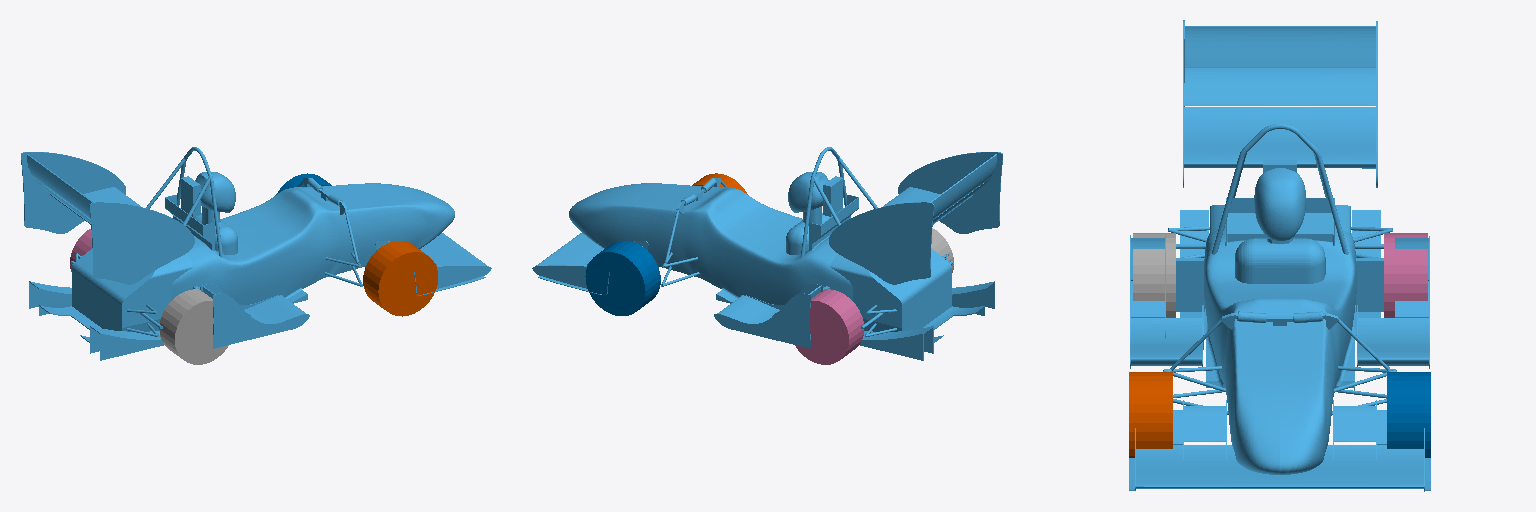
robot.urdf — prius:
<?xml version="1.0"?>
<robot xmlns:xacro="http://ros.org/wiki/xacro" name="prius">


  <!--- Surface properties must come first? -->
  <gazebo reference="front_left_wheel">
    <mu1>2.0</mu1>
    <mu2>2.0</mu2>
    <minDepth>0.005</minDepth>
    <kp>1e8</kp>
  </gazebo>
  <gazebo reference="front_right_wheel">
    <mu1>2.0</mu1>
    <mu2>2.0</mu2>
    <minDepth>0.005</minDepth>
    <kp>1e8</kp>
  </gazebo>
  <gazebo reference="rear_left_wheel">
    <mu1>2.0</mu1>
    <mu2>2.0</mu2>
    <minDepth>0.005</minDepth>
    <kp>1e8</kp>
  </gazebo>
  <gazebo reference="rear_right_wheel">
    <mu1>2.0</mu1>
    <mu2>2.0</mu2>
    <minDepth>0.005</minDepth>
    <kp>1e8</kp>
  </gazebo>

  <link name="base_link">
    <inertial>
      <mass value="1"/>
      <inertia ixx="0.001" ixy="0.0" ixz="0.0" iyy="0.001" iyz="0.0" izz="0.001"/>
    </inertial>
  </link>
  <joint name="base_link_connection" type="fixed">
    <parent link="base_link"/>
    <child link="chassis"/>
    <origin xyz="1.45 0 0" rpy="0 0 1.57"/>
    <axis xyz="1 0 0"/>
  </joint>

  <link name="chassis">
    <visual>
      <origin xyz="0.0 -0.5 0.248" rpy="1.5708 0 1.5708"/>
      <geometry>
        <mesh filename="package://ground_car/meshes/E02.obj" scale="0.001 0.001 0.001"/>
      </geometry>
    </visual>

    <collision name="chassis">
      <origin xyz="0.0 0.0 0.248" rpy="0 0 0"/>
      <geometry>
        <box size="0.9 2 0.496"/>
      </geometry>
    </collision>


    <inertial>
      <mass value="250.0"/>
      <origin xyz="0 0 0.48" rpy="0 0 1.5708"/>
      <inertia ixx="2581.13354740" ixy="0.0" ixz="0.0" iyy="591.30846112" iyz="0.0" izz="2681.95008628"/>
    </inertial>
  </link>

  <link name="fl_axle">
    <inertial>
      <mass value="1"/>
      <origin xyz="0 0 0"/>
      <inertia ixx="0.004" ixy="0.0" ixz="0.0" iyy="0.004" iyz="0.0" izz="0.004"/>
    </inertial>
  </link>
  <link name="fr_axle">
    <inertial>
      <mass value="1"/>
      <origin xyz="0 0 0"/>
      <inertia ixx="0.004" ixy="0.0" ixz="0.0" iyy="0.004" iyz="0.0" izz="0.004"/>
    </inertial>
  </link>
  <link name="front_left_wheel">
    <inertial>
      <mass value="11"/>
      <origin xyz="0 0 0"/>
      <inertia ixx="0.58631238" ixy="0.0" ixz="0.0" iyy="0.33552910" iyz="0.0" izz="0.33552910"/>
    </inertial>
    <collision name="front_left_wheel_collision">
      <geometry>
        <sphere radius="0.2286"/>
      </geometry>
    </collision>
    <visual>
      <origin xyz="0 0 0" rpy="0 -1.5707 0"/>
      <geometry>
        <cylinder length="0.2032" radius="0.2286"/>
      </geometry>
        <transparency>0</transparency>
        <cast_shadows>1</cast_shadows>
    </visual>
  </link>
  <link name="front_right_wheel">
    <inertial>
      <mass value="11"/>
      <origin xyz="0 0 0"/>
      <inertia ixx="0.58631238" ixy="0.0" ixz="0.0" iyy="0.33552910" iyz="0.0" izz="0.33552910"/>
    </inertial>
    <collision name="front_right_wheel_collision">
      <geometry>
        <sphere radius="0.2286"/>
      </geometry>
    </collision>
    <visual>
      <origin xyz="0 0 0" rpy="0 -1.5707 0"/>
      <geometry>
        <cylinder length="0.2032" radius="0.2286"/>
      </geometry>
    </visual>
  </link>
  <link name="rear_left_wheel">
    <inertial>
      <mass value="11"/>
      <origin xyz="0 0 0"/>
      <inertia ixx="0.58631238" ixy="0.0" ixz="0.0" iyy="0.33552910" iyz="0.0" izz="0.33552910"/>
    </inertial>
    <collision name="rear_left_wheel_collision">
      <geometry>
        <sphere radius="0.2286"/>
      </geometry>
    </collision>
    <visual>
      <origin xyz="0 0 0" rpy="0 -1.5707 0"/>
      <geometry>
        <cylinder length="0.2032" radius="0.2286"/>
      </geometry>
    </visual>
  </link>
  <link name="rear_right_wheel">
    <inertial>
      <mass value="11"/>
      <origin xyz="0 0 0"/>
      <inertia ixx="0.58631238" ixy="0.0" ixz="0.0" iyy="0.33552910" iyz="0.0" izz="0.33552910"/>
    </inertial>
    <collision name="rear_right_wheel_collision">
      <geometry>
        <sphere radius="0.2286"/>
      </geometry>
    </collision>
    <visual>
      <origin xyz="0 0 0" rpy="0 -1.5707 0"/>
      <geometry>
        <cylinder length="0.2032" radius="0.2286"/>
      </geometry>
    </visual>
  </link>
  <link name="steering_wheel">
    <inertial>
      <mass value="1.0"/>
      <inertia ixx="0.14583300" ixy="0.0" ixz="0.0" iyy="0.14583300" iyz="0.0" izz="0.125"/>
    </inertial>

  </link>

  <joint name="steering_joint" type="continuous">
    <origin xyz="0.357734 -0.427868 0.588243" rpy="-1.302101 0 0"/>
    <parent link="chassis"/>
    <child link="steering_wheel"/>
    <axis xyz="0 0 1"/>
    <limit lower="-7.85" upper="7.85" effort="10000000" velocity="1000000"/>
  </joint>

  <joint name="front_left_steer_joint" type="continuous">
    <parent link="chassis"/>
    <child link="fl_axle"/>
    <origin xyz="0.605 -0.77 0.1886" rpy="0 0 0"/>
    <axis xyz="0 0 1"/>
    <limit lower="-0.8727" upper="0.8727" effort="10000000" velocity="1000000"/>
  </joint>
  <joint name="front_right_steer_joint" type="continuous">
    <parent link="chassis"/>
    <child link="fr_axle"/>
    <origin xyz="-0.605 -0.77 0.1886" rpy="0 0 0"/>
    <axis xyz="0 0 1"/>
    <limit lower="-0.8727" upper="0.8727" effort="10000000" velocity="1000000"/>
  </joint>
  <joint name="front_left_wheel_joint" type="continuous">
    <parent link="fl_axle"/>
    <child link="front_left_wheel"/>
    <origin xyz="0 0 0" rpy="0 0 0"/>
    <axis xyz="1 0 0"/>
  </joint>
  <joint name="front_right_wheel_joint" type="continuous">
    <parent link="fr_axle"/>
    <child link="front_right_wheel"/>
    <origin xyz="0 0 0" rpy="0 0 0"/>
    <axis xyz="1 0 0"/>
  </joint>
  <joint name="rear_left_wheel_joint" type="continuous">
    <parent link="chassis"/>
    <child link="rear_left_wheel"/>
    <origin xyz="0.590 0.77 0.1886" rpy="0 0 0"/>
    <axis xyz="1 0 0"/>
  </joint>
  <joint name="rear_right_wheel_joint" type="continuous">
    <parent link="chassis"/>
    <child link="rear_right_wheel"/>
    <origin xyz="-0.590 0.77 0.1886" rpy="0 0 0"/>
    <axis xyz="1 0 0"/>
  </joint>

  <!-- Sensor links and fixed joints -->
  <link name="center_laser_link">
    <inertial>
      <mass value="1"/>
      <inertia ixx="0.001" ixy="0.0" ixz="0.0" iyy="0.001" iyz="0.0" izz="0.001"/>
    </inertial>
  </link>
  <joint name="center_laser_joint" type="fixed">
    <parent link="chassis"/>
    <child link="center_laser_link"/>
    <origin xyz="0 -1.3 0.4" rpy="0 0 -1.5707"/>
  </joint>


<gazebo reference="base_link_connection">
    <disableFixedJointLumping>true</disableFixedJointLumping>
  </gazebo>
  

 
  <link name="front_camera_link">
    <inertial>
      <mass value="1"/>
      <inertia ixx="0.001" ixy="0.0" ixz="0.0" iyy="0.001" iyz="0.0" izz="0.001"/>
    </inertial>
  </link>
  <joint name="front_camera_joint" type="fixed">
    <parent link="chassis"/>
    <child link="front_camera_link"/>
    <origin xyz="0 0.4 1.2" rpy="0 0.05 -1.5707"/>
  </joint>




  <gazebo>
    <plugin name="pruis_hybrid_drive" filename="libPriusHybridPlugin.so">
      <chassis>chassis</chassis>
      <front_left_wheel>front_left_wheel_joint</front_left_wheel>
      <front_right_wheel>front_right_wheel_joint</front_right_wheel>
      <front_left_wheel_steering>front_left_steer_joint</front_left_wheel_steering>
      <front_right_wheel_steering>front_right_steer_joint</front_right_wheel_steering>
      <back_left_wheel>rear_left_wheel_joint</back_left_wheel>
      <back_right_wheel>rear_right_wheel_joint</back_right_wheel>
      <steering_wheel>steering_joint</steering_wheel>
      <chassis_aero_force_gain>0.63045</chassis_aero_force_gain>
      <front_torque>0</front_torque>
      <back_torque>500</back_torque>
      <front_brake_torque>1031.28052716</front_brake_torque>
      <back_brake_torque>687.5203514400001</back_brake_torque>
      <max_speed>37.998337013956565</max_speed>
      <min_gas_flow>8.981854013171626e-05</min_gas_flow>
      <gas_efficiency>0.371</gas_efficiency>
      <battery_charge_watt_hours>291</battery_charge_watt_hours>
      <battery_discharge_watt_hours>214</battery_discharge_watt_hours>
      <max_steer>0.6458</max_steer>
      <flwheel_steering_p_gain>1e4</flwheel_steering_p_gain>
      <frwheel_steering_p_gain>1e4</frwheel_steering_p_gain>
      <flwheel_steering_i_gain>0</flwheel_steering_i_gain>
      <frwheel_steering_i_gain>0</frwheel_steering_i_gain>
      <flwheel_steering_d_gain>3e2</flwheel_steering_d_gain>
      <frwheel_steering_d_gain>3e2</frwheel_steering_d_gain>
      <flwheel_p_gain>0</flwheel_p_gain>
      <frwheel_p_gain>0</frwheel_p_gain>
      <flwheel_i_gain>0</flwheel_i_gain>
      <frwheel_i_gain>0</frwheel_i_gain>
      <flwheel_d_gain>0</flwheel_d_gain>
      <frwheel_d_gain>0</frwheel_d_gain>
      <blwheel_p_gain>300</blwheel_p_gain>
      <brwheel_p_gain>300</brwheel_p_gain>
      <blwheel_i_gain>0.001</blwheel_i_gain>
      <brwheel_i_gain>0.001</brwheel_i_gain>
      <blwheel_d_gain>0</blwheel_d_gain>
      <brwheel_d_gain>0</brwheel_d_gain>
    </plugin>
  </gazebo>

  <gazebo>
    <plugin name="joint_state_publisher" filename="libgazebo_ros_joint_state_publisher.so">
      <!-- <robotNamespace>/prius</robotNamespace> -->
      <jointName>rear_right_wheel_joint, rear_left_wheel_joint, front_right_wheel_joint, front_left_wheel_joint, front_right_steer_joint, front_left_steer_joint, steering_joint</jointName>
      <updateRate>100.0</updateRate>
      <alwaysOn>true</alwaysOn>
    </plugin>
  </gazebo>

  <gazebo>
    <plugin name="p3d" filename="libgazebo_ros_p3d.so">
      <!-- <robotNamespace>/prius</robotNamespace> -->
      <bodyName>base_link</bodyName>
      <topicName>base_pose_ground_truth</topicName>
      <frameName>map</frameName>
      <updateRate>100.0</updateRate>
    </plugin>
  </gazebo>


 <gazebo reference="center_laser_link">
    <sensor name='center_laser_sensor' type='ray'>
      <ray>
         <scan>
	<pose>0 0 0 0 0 0</pose>
         <vertical>
              <samples>16</samples>
              <resolution>1</resolution>
              <min_angle>-0.5352</min_angle>
              <max_angle>0.1862</max_angle>
            </vertical>
            <horizontal>
              <samples>500</samples>
              <resolution>1</resolution>
              <min_angle>-3.1415</min_angle>
              <max_angle>3.1415</max_angle>
            </horizontal>
          </scan>
          <range>
            <min>0.9</min>
            <max>131</max>
            <resolution>0.001</resolution>
          </range>
          <noise>
            <type>gaussian</type>
            <mean>0.0</mean>
            <stddev>0</stddev>
          </noise>
      </ray>
      <plugin name="gazebo_ros_laser_controller" filename="libgazebo_ros_velodyne_laser.so">
          <topicName>/velodyne_points</topicName>
          <frameName>center_laser_link</frameName>
          <min_range>0.9</min_range>
          <max_range>130</max_range>
          <gaussianNoise>0</gaussianNoise>
        </plugin>
      <always_on>1</always_on>
      <update_rate>10</update_rate>
      <visualize>0</visualize>
    </sensor>
   </gazebo>

  <gazebo reference="front_camera_link">
    <sensor type="camera" name="front_camera_sensor">
      <update_rate>30.0</update_rate>
      <camera name="front_camera">
        <horizontal_fov>1.3962634</horizontal_fov>
        <image>
          <width>800</width>
          <height>800</height>
          <format>R8G8B8</format>
        </image>
        <clip>
          <near>0.02</near>
          <far>300</far>
        </clip>
        <noise>
          <type>gaussian</type>
          <mean>0.0</mean>
          <stddev>0.007</stddev>
        </noise>
      </camera>
      <plugin name="front_camera_controller" filename="libgazebo_ros_camera.so">
        <alwaysOn>false</alwaysOn>
        <updateRate>0.0</updateRate>
        <cameraName>/E02/front_camera</cameraName>
        <imageTopicName>image_raw</imageTopicName>
        <cameraInfoTopicName>/E02/front_camera_info</cameraInfoTopicName>
        <frameName>camera_link</frameName>
        <hackBaseline>0.07</hackBaseline>
        <distortionK1>0.0</distortionK1>
        <distortionK2>0.0</distortionK2>
        <distortionK3>0.0</distortionK3>
        <distortionT1>0.0</distortionT1>
        <distortionT2>0.0</distortionT2>
      </plugin>
    </sensor>
  </gazebo>

</robot>

--- Facts derived from the render (not from the file) ---
3 views of the same robot in one strip: view 1: azimuth 30°, elevation 25°; view 2: azimuth 150°, elevation 25°; view 3: azimuth 270°, elevation 25° (orthographic).
Model prius with 11 links and 10 joints (7 continuous, 3 fixed), rooted at base_link, posed all joints at 0.
Visible links, largest first — view 1: chassis, front_right_wheel, rear_right_wheel; view 2: chassis, front_left_wheel, rear_left_wheel; view 3: chassis, front_left_wheel, front_right_wheel, rear_left_wheel, rear_right_wheel.
Link boxes in pixels (left/top/right/bottom): chassis: left=21, top=147, right=491, bottom=360; front_right_wheel: left=363, top=241, right=437, bottom=316; rear_right_wheel: left=159, top=289, right=228, bottom=364; chassis: left=532, top=147, right=1002, bottom=360; front_left_wheel: left=585, top=241, right=660, bottom=315; rear_left_wheel: left=795, top=289, right=863, bottom=364; chassis: left=1129, top=20, right=1430, bottom=491; front_left_wheel: left=1387, top=372, right=1430, bottom=457; front_right_wheel: left=1129, top=372, right=1172, bottom=457; rear_left_wheel: left=1384, top=233, right=1427, bottom=317; rear_right_wheel: left=1133, top=233, right=1175, bottom=317.
Bounding box of the posed robot: 3.02 × 1.42 × 1.24 m (x, y, z).
1 mesh visuals loaded from 1 distinct referenced files (1 OBJ).
